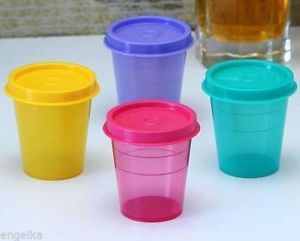Rec_Plastic: (6, 47, 96, 189), (199, 52, 296, 179), (102, 100, 194, 222), (100, 6, 197, 106)
